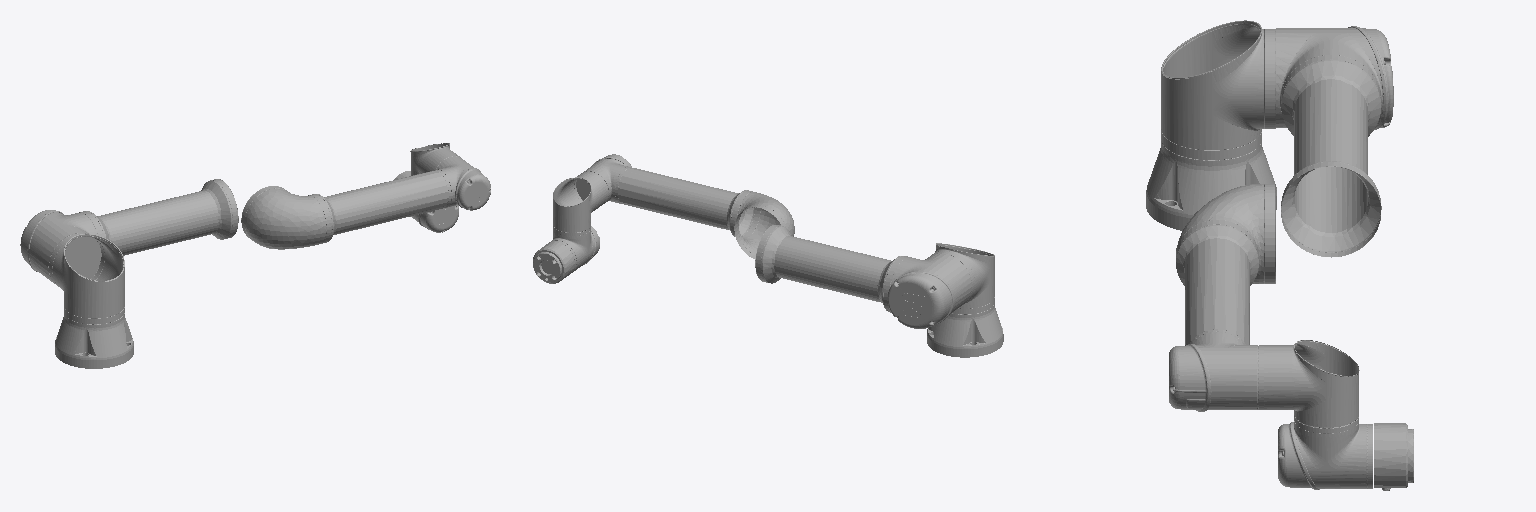
robot.urdf — ur5e:
<?xml version="1.0" encoding="utf-8"?>
<!-- =================================================================================== -->
<!-- |    This document was autogenerated by xacro from ur5e_robot.urdf.xacro          | -->
<!-- |    EDITING THIS FILE BY HAND IS NOT RECOMMENDED                                 | -->
<!-- =================================================================================== -->
<robot name="ur5e">
  <gazebo>
    <plugin filename="libgazebo_ros_control.so" name="ros_control">
      <!--robotNamespace>/</robotNamespace-->
      <!--robotSimType>gazebo_ros_control/DefaultRobotHWSim</robotSimType-->
    </plugin>
    <!--
    <plugin name="gazebo_ros_power_monitor_controller" filename="libgazebo_ros_power_monitor.so">
      <alwaysOn>true</alwaysOn>
      <updateRate>1.0</updateRate>
      <timeout>5</timeout>
      <powerStateTopic>power_state</powerStateTopic>
      <powerStateRate>10.0</powerStateRate>
      <fullChargeCapacity>87.78</fullChargeCapacity>     
      <dischargeRate>-474</dischargeRate>
      <chargeRate>525</chargeRate>
      <dischargeVoltage>15.52</dischargeVoltage>
      <chargeVoltage>16.41</chargeVoltage>
    </plugin>
-->
  </gazebo>
  <!-- measured from model -->
  <!-- link lengths used in model -->
  <!-- manually measured -->
  <link name="base_link">
    <visual>
      <origin rpy="0 0 3.14159265359" xyz="0 0 0"/>
      <geometry>
        <mesh filename="package://drake/manipulation/models/ur_e_description/meshes/ur5e/visual/base.obj"/>
      </geometry>
      <material name="LightGrey">
        <color rgba="0.7 0.7 0.7 1.0"/>
      </material>
    </visual>
    <collision>
      <origin rpy="0 0 3.14159265359" xyz="0 0 0"/>
      <geometry>
        <mesh filename="package://drake/manipulation/models/ur_e_description/meshes/ur5e/collision/base.obj"/>
      </geometry>
    </collision>
    <inertial>
      <mass value="4.0"/>
      <origin rpy="0 0 0" xyz="0.0 0.0 0.0"/>
      <inertia ixx="0.00443333156" ixy="0.0" ixz="0.0" iyy="0.00443333156" iyz="0.0" izz="0.0072"/>
    </inertial>
  </link>
  <joint name="shoulder_pan_joint" type="revolute">
    <parent link="base_link"/>
    <child link="shoulder_link"/>
    <origin rpy="0 0 3.14159265359" xyz="0 0 0.1625"/>
    <axis xyz="0 0 1"/>
    <limit effort="150.0" lower="-6.28318530718" upper="6.28318530718" velocity="3.14"/>
    <dynamics damping="0.0" friction="0.0"/>
  </joint>
  <link name="shoulder_link">
    <visual>
      <origin rpy="0 0 3.14159265359" xyz="0 0 0"/>
      <geometry>
        <mesh filename="package://drake/manipulation/models/ur_e_description/meshes/ur5e/visual/shoulder.obj"/>
      </geometry>
      <material name="LightGrey">
        <color rgba="0.7 0.7 0.7 1.0"/>
      </material>
    </visual>
    <collision>
      <origin rpy="0 0 3.14159265359" xyz="0 0 0"/>
      <geometry>
        <mesh filename="package://drake/manipulation/models/ur_e_description/meshes/ur5e/collision/shoulder.obj"/>
      </geometry>
    </collision>
    <inertial>
      <mass value="3.7"/>
      <origin rpy="0 0 0" xyz="0.0 0.0 0.0"/>
      <inertia ixx="0.010267495893" ixy="0.0" ixz="0.0" iyy="0.010267495893" iyz="0.0" izz="0.00666"/>
    </inertial>
  </link>
  <joint name="shoulder_lift_joint" type="revolute">
    <parent link="shoulder_link"/>
    <child link="upper_arm_link"/>
    <origin rpy="1.570796327 0 0" xyz="0 0 0"/>
    <axis xyz="0 0 1"/>
    <limit effort="150.0" lower="-6.28318530718" upper="6.28318530718" velocity="3.14"/>
    <dynamics damping="0.0" friction="0.0"/>
  </joint>
  <link name="upper_arm_link">
    <visual>
      <origin rpy="1.57079632679 0 -1.57079632679" xyz="0 0 0.138"/>
      <geometry>
        <mesh filename="package://drake/manipulation/models/ur_e_description/meshes/ur5e/visual/upperarm.obj"/>
      </geometry>
      <material name="LightGrey">
        <color rgba="0.7 0.7 0.7 1.0"/>
      </material>
    </visual>
    <collision>
      <origin rpy="1.57079632679 0 -1.57079632679" xyz="0 0 0.138"/>
      <geometry>
        <mesh filename="package://drake/manipulation/models/ur_e_description/meshes/ur5e/collision/upperarm.obj"/>
      </geometry>
    </collision>
    <inertial>
      <mass value="8.393"/>
      <origin rpy="0 1.57079632679 0" xyz="-0.2125 0.0 0.138"/>
      <inertia ixx="0.138134736413" ixy="0.0" ixz="0.0" iyy="0.138134736413" iyz="0.0" izz="0.0236053125"/>
    </inertial>
  </link>
  <joint name="elbow_joint" type="revolute">
    <parent link="upper_arm_link"/>
    <child link="forearm_link"/>
    <origin rpy="0 0 0" xyz="-0.425 0 0"/>
    <axis xyz="0 0 1"/>
    <limit effort="150.0" lower="-3.14159265359" upper="3.14159265359" velocity="3.14"/>
    <dynamics damping="0.0" friction="0.0"/>
  </joint>
  <link name="forearm_link">
    <visual>
      <origin rpy="1.57079632679 0 -1.57079632679" xyz="0 0 0.007"/>
      <geometry>
        <mesh filename="package://drake/manipulation/models/ur_e_description/meshes/ur5e/visual/forearm.obj"/>
      </geometry>
      <material name="LightGrey">
        <color rgba="0.7 0.7 0.7 1.0"/>
      </material>
    </visual>
    <collision>
      <origin rpy="1.57079632679 0 -1.57079632679" xyz="0 0 0.007"/>
      <geometry>
        <mesh filename="package://drake/manipulation/models/ur_e_description/meshes/ur5e/collision/forearm.obj"/>
      </geometry>
    </collision>
    <inertial>
      <mass value="2.275"/>
      <origin rpy="0 1.57079632679 0" xyz="-0.2125 0.0 0.007"/>
      <inertia ixx="0.0323610733889" ixy="0.0" ixz="0.0" iyy="0.0323610733889" iyz="0.0" izz="0.0063984375"/>
    </inertial>
  </link>
  <joint name="wrist_1_joint" type="revolute">
    <parent link="forearm_link"/>
    <child link="wrist_1_link"/>
    <origin rpy="0 0 0" xyz="-0.3922 0 0.1333"/>
    <axis xyz="0 0 1"/>
    <limit effort="28.0" lower="-6.28318530718" upper="6.28318530718" velocity="6.28"/>
    <dynamics damping="0.0" friction="0.0"/>
  </joint>
  <link name="wrist_1_link">
    <visual>
      <origin rpy="1.57079632679 0 0" xyz="0 0 -0.127"/>
      <geometry>
        <mesh filename="package://drake/manipulation/models/ur_e_description/meshes/ur5e/visual/wrist1.obj"/>
      </geometry>
      <material name="LightGrey">
        <color rgba="0.7 0.7 0.7 1.0"/>
      </material>
    </visual>
    <collision>
      <origin rpy="1.57079632679 0 0" xyz="0 0 -0.127"/>
      <geometry>
        <mesh filename="package://drake/manipulation/models/ur_e_description/meshes/ur5e/collision/wrist1.obj"/>
      </geometry>
    </collision>
    <inertial>
      <mass value="1.219"/>
      <origin rpy="0 0 0" xyz="0.0 0.0 0.0"/>
      <inertia ixx="0.00272396513625" ixy="0.0" ixz="0.0" iyy="0.00272396513625" iyz="0.0" izz="0.0034284375"/>
    </inertial>
  </link>
  <joint name="wrist_2_joint" type="revolute">
    <parent link="wrist_1_link"/>
    <child link="wrist_2_link"/>
    <origin rpy="1.570796327 0 0" xyz="0 -0.0997 -2.0448811823e-11"/>
    <axis xyz="0 0 1"/>
    <limit effort="28.0" lower="-6.28318530718" upper="6.28318530718" velocity="6.28"/>
    <dynamics damping="0.0" friction="0.0"/>
  </joint>
  <link name="wrist_2_link">
    <visual>
      <origin rpy="0 0 0" xyz="0 0 -0.0997"/>
      <geometry>
        <mesh filename="package://drake/manipulation/models/ur_e_description/meshes/ur5e/visual/wrist2.obj"/>
      </geometry>
      <material name="LightGrey">
        <color rgba="0.7 0.7 0.7 1.0"/>
      </material>
    </visual>
    <collision>
      <origin rpy="0 0 0" xyz="0 0 -0.0997"/>
      <geometry>
        <mesh filename="package://drake/manipulation/models/ur_e_description/meshes/ur5e/collision/wrist2.obj"/>
      </geometry>
    </collision>
    <inertial>
      <mass value="1.219"/>
      <origin rpy="0 0 0" xyz="0.0 0.0 0.0"/>
      <inertia ixx="0.00272194058122" ixy="0.0" ixz="0.0" iyy="0.00272194058122" iyz="0.0" izz="0.0034284375"/>
    </inertial>
  </link>
  <joint name="wrist_3_joint" type="revolute">
    <parent link="wrist_2_link"/>
    <child link="wrist_3_link"/>
    <origin rpy="1.57079632659 3.14159265359 3.14159265359" xyz="0 0.0996 -2.04283014801e-11"/>
    <axis xyz="0 0 1"/>
    <limit effort="28.0" lower="-6.28318530718" upper="6.28318530718" velocity="6.28"/>
    <dynamics damping="0.0" friction="0.0"/>
  </joint>
  <link name="wrist_3_link">
    <visual>
      <origin rpy="1.57079632679 0 0" xyz="0 0 -0.0989"/>
      <geometry>
        <mesh filename="package://drake/manipulation/models/ur_e_description/meshes/ur5e/visual/wrist3.obj"/>
      </geometry>
      <material name="LightGrey">
        <color rgba="0.7 0.7 0.7 1.0"/>
      </material>
    </visual>
    <collision>
      <origin rpy="1.57079632679 0 0" xyz="0 0 -0.0989"/>
      <geometry>
        <mesh filename="package://drake/manipulation/models/ur_e_description/meshes/ur5e/collision/wrist3.obj"/>
      </geometry>
    </collision>
    <inertial>
      <mass value="0.1879"/>
      <origin rpy="0 0 0" xyz="0.0 0.0 -0.025"/>
      <inertia ixx="0.000134270154625" ixy="0.0" ixz="0.0" iyy="0.000134270154625" iyz="0.0" izz="0.00019024875"/>
    </inertial>
  </link>
  <joint name="ee_fixed_joint" type="fixed">
    <parent link="wrist_3_link"/>
    <child link="ee_link"/>
    <origin rpy="0.0 -1.57079632679 1.57079632679" xyz="0.0 0.0 0.0"/>
  </joint>
  <link name="ee_link">
    <collision>
      <geometry>
        <box size="0.01 0.01 0.01"/>
      </geometry>
      <origin rpy="0 0 0" xyz="-0.01 0 0"/>
    </collision>
  </link>
  <transmission name="shoulder_pan_trans">
    <type>transmission_interface/SimpleTransmission</type>
    <joint name="shoulder_pan_joint">
      <hardwareInterface>hardware_interface/PositionJointInterface</hardwareInterface>
    </joint>
    <actuator name="shoulder_pan_motor">
      <mechanicalReduction>1</mechanicalReduction>
    </actuator>
  </transmission>
  <transmission name="shoulder_lift_trans">
    <type>transmission_interface/SimpleTransmission</type>
    <joint name="shoulder_lift_joint">
      <hardwareInterface>hardware_interface/PositionJointInterface</hardwareInterface>
    </joint>
    <actuator name="shoulder_lift_motor">
      <mechanicalReduction>1</mechanicalReduction>
    </actuator>
  </transmission>
  <transmission name="elbow_trans">
    <type>transmission_interface/SimpleTransmission</type>
    <joint name="elbow_joint">
      <hardwareInterface>hardware_interface/PositionJointInterface</hardwareInterface>
    </joint>
    <actuator name="elbow_motor">
      <mechanicalReduction>1</mechanicalReduction>
    </actuator>
  </transmission>
  <transmission name="wrist_1_trans">
    <type>transmission_interface/SimpleTransmission</type>
    <joint name="wrist_1_joint">
      <hardwareInterface>hardware_interface/PositionJointInterface</hardwareInterface>
    </joint>
    <actuator name="wrist_1_motor">
      <mechanicalReduction>1</mechanicalReduction>
    </actuator>
  </transmission>
  <transmission name="wrist_2_trans">
    <type>transmission_interface/SimpleTransmission</type>
    <joint name="wrist_2_joint">
      <hardwareInterface>hardware_interface/PositionJointInterface</hardwareInterface>
    </joint>
    <actuator name="wrist_2_motor">
      <mechanicalReduction>1</mechanicalReduction>
    </actuator>
  </transmission>
  <transmission name="wrist_3_trans">
    <type>transmission_interface/SimpleTransmission</type>
    <joint name="wrist_3_joint">
      <hardwareInterface>hardware_interface/PositionJointInterface</hardwareInterface>
    </joint>
    <actuator name="wrist_3_motor">
      <mechanicalReduction>1</mechanicalReduction>
    </actuator>
  </transmission>
  <gazebo reference="shoulder_link">
    <selfCollide>true</selfCollide>
  </gazebo>
  <gazebo reference="upper_arm_link">
    <selfCollide>true</selfCollide>
  </gazebo>
  <gazebo reference="forearm_link">
    <selfCollide>true</selfCollide>
  </gazebo>
  <gazebo reference="wrist_1_link">
    <selfCollide>true</selfCollide>
  </gazebo>
  <gazebo reference="wrist_3_link">
    <selfCollide>true</selfCollide>
  </gazebo>
  <gazebo reference="wrist_2_link">
    <selfCollide>true</selfCollide>
  </gazebo>
  <gazebo reference="ee_link">
    <selfCollide>true</selfCollide>
  </gazebo>
  <!-- ROS base_link to UR 'Base' Coordinates transform -->
  <link name="base"/>
  <joint name="base_link-base_fixed_joint" type="fixed">
    <!-- NOTE: this rotation is only needed as long as base_link itself is
                 not corrected wrt the real robot (ie: rotated over 180
                 degrees)
      -->
    <origin rpy="0 0 -3.14159265359" xyz="0 0 0"/>
    <parent link="base_link"/>
    <child link="base"/>
  </joint>
  <!-- Frame coincident with all-zeros TCP on UR controller -->
  <link name="tool0"/>
  <joint name="wrist_3_link-tool0_fixed_joint" type="fixed">
    <origin rpy="0 0 0" xyz="0 0 0"/>
    <parent link="wrist_3_link"/>
    <child link="tool0"/>
  </joint>
  <link name="world"/>
  <joint name="world_joint" type="fixed">
    <parent link="world"/>
    <child link="base_link"/>
    <origin rpy="0.0 0.0 0.0" xyz="0.0 0.0 0.0"/>
  </joint>
</robot>

--- Facts derived from the render (not from the file) ---
The picture shows the robot from 3 angles, left to right: view 1: azimuth 30°, elevation 25°; view 2: azimuth 150°, elevation 25°; view 3: azimuth 270°, elevation 25°; orthographic projection.
Robot: ur5e — 11 links, 10 joints (6 revolute, 4 fixed); root link world; default pose: all joints at 0.
Visible links, largest first — view 1: forearm_link, upper_arm_link, shoulder_link, base_link, wrist_1_link, wrist_2_link; view 2: upper_arm_link, forearm_link, base_link, wrist_1_link, shoulder_link, wrist_3_link, wrist_2_link; view 3: upper_arm_link, forearm_link, shoulder_link, wrist_1_link, base_link, wrist_2_link, wrist_3_link.
Boxes of the visible links, <box> form: forearm_link: <box>245,155,490,249</box>; upper_arm_link: <box>20,179,286,283</box>; shoulder_link: <box>49,233,124,317</box>; base_link: <box>55,307,133,368</box>; wrist_1_link: <box>410,143,459,175</box>; wrist_2_link: <box>411,205,458,232</box>; upper_arm_link: <box>734,205,971,328</box>; forearm_link: <box>574,154,794,255</box>; base_link: <box>927,297,1003,357</box>; wrist_1_link: <box>553,172,606,235</box>; shoulder_link: <box>932,243,994,308</box>; wrist_3_link: <box>533,242,574,283</box>; wrist_2_link: <box>549,226,599,272</box>; upper_arm_link: <box>1264,26,1393,283</box>; forearm_link: <box>1169,184,1263,411</box>; shoulder_link: <box>1161,20,1275,149</box>; wrist_1_link: <box>1264,340,1359,433</box>; base_link: <box>1146,129,1276,230</box>; wrist_2_link: <box>1278,421,1372,489</box>; wrist_3_link: <box>1374,423,1413,490</box>.
Size in the robot's own frame: 0.932 by 0.3084 by 0.2245 metres.
Meshes: 7 distinct files referenced, 7 mesh visuals loaded (7 OBJ).